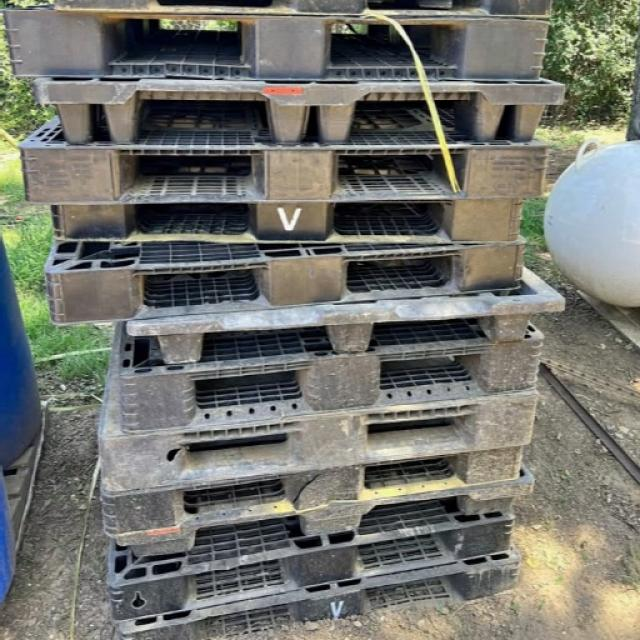non-igps: (93, 379, 544, 504), (101, 504, 523, 630), (39, 226, 536, 331), (114, 327, 550, 442), (121, 264, 573, 372), (96, 431, 530, 543), (0, 0, 557, 86), (108, 459, 544, 562), (11, 128, 558, 210), (28, 69, 573, 151), (110, 539, 528, 640), (46, 187, 529, 250), (46, 0, 561, 26)
